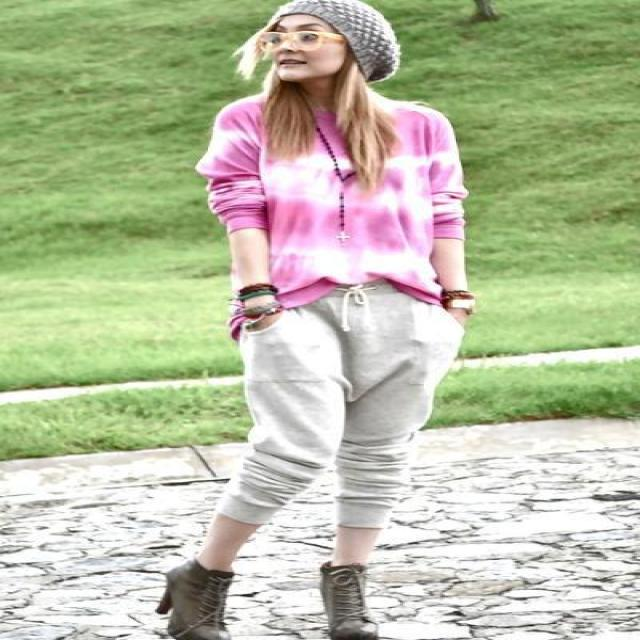hat: (288, 0, 400, 81)
jacket: (195, 89, 467, 302)
pants: (212, 273, 478, 533)
shoe: (186, 562, 407, 639)
